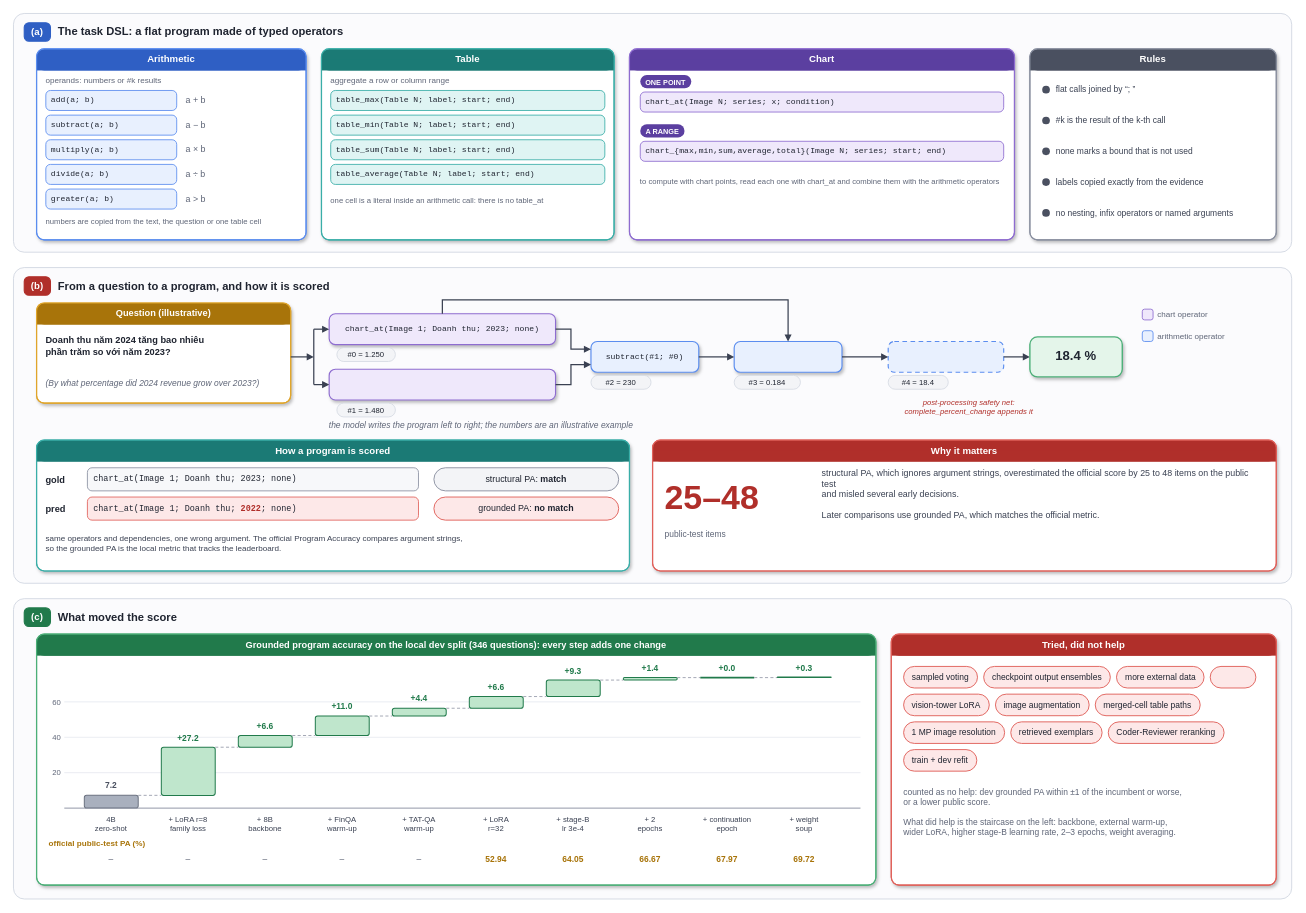
Some shapes in this 1306 by 913 pixel diagram are drawn without their labels. The centre of each missing label's shape, as x and y in pixels:
"chart_at(Image 1; Doanh thu; 2024; none)" belongs at (x=442, y=385).
"divide(#2; #0)" belongs at (x=788, y=357).
"dropout" belongs at (x=1232, y=677).
"multiply(#3; 100)" belongs at (x=945, y=357).
